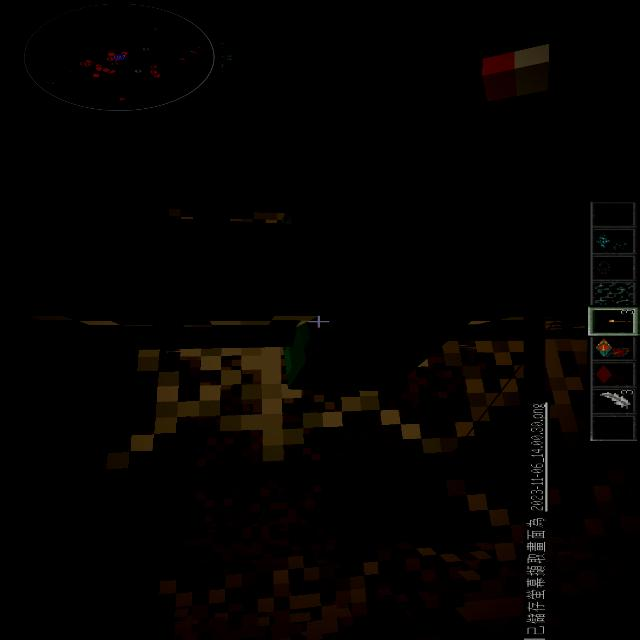Zombie: (44, 90, 594, 403)
